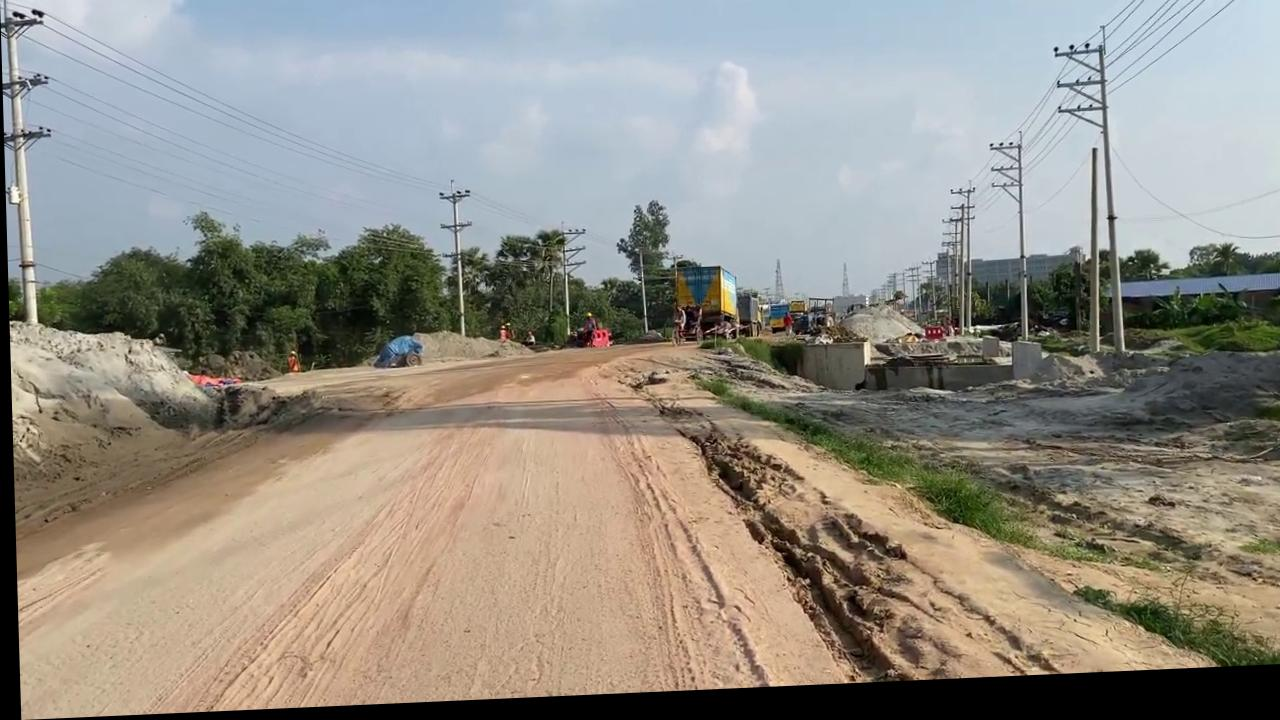Garbage: (369, 338, 421, 371)
Muddy road: (11, 322, 1280, 717)
Pole: (6, 30, 35, 322), (1082, 156, 1101, 362), (635, 255, 646, 339)
Traffic-sign: (612, 204, 670, 340)
Tree: (785, 303, 833, 343), (766, 306, 806, 341)
